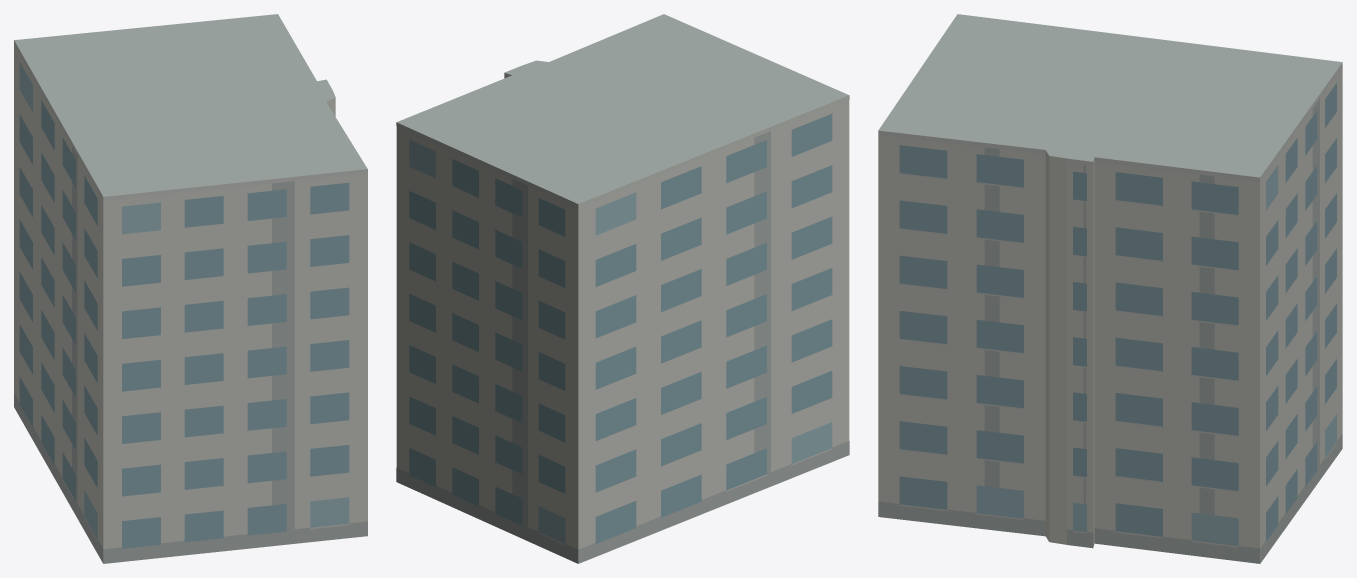
File: survey-upis-32870994.glb
3 views of the same model, side by side, from view 1: azimuth 30°, elevation 25°; view 2: azimuth 150°, elevation 25°; view 3: azimuth 270°, elevation 25° (orthographic). The views are drawn at different scales.
Visible parts, largest first — view 1: survey-upis-32870994.tmp; view 2: survey-upis-32870994.tmp; view 3: survey-upis-32870994.tmp.
Part boxes in pixels (x1,y1,x2,y2): survey-upis-32870994.tmp: [14, 14, 367, 563]; survey-upis-32870994.tmp: [396, 14, 849, 563]; survey-upis-32870994.tmp: [878, 14, 1342, 563].
Bounding box in the file's own units: 18.89 × 20.8 × 22.67.
